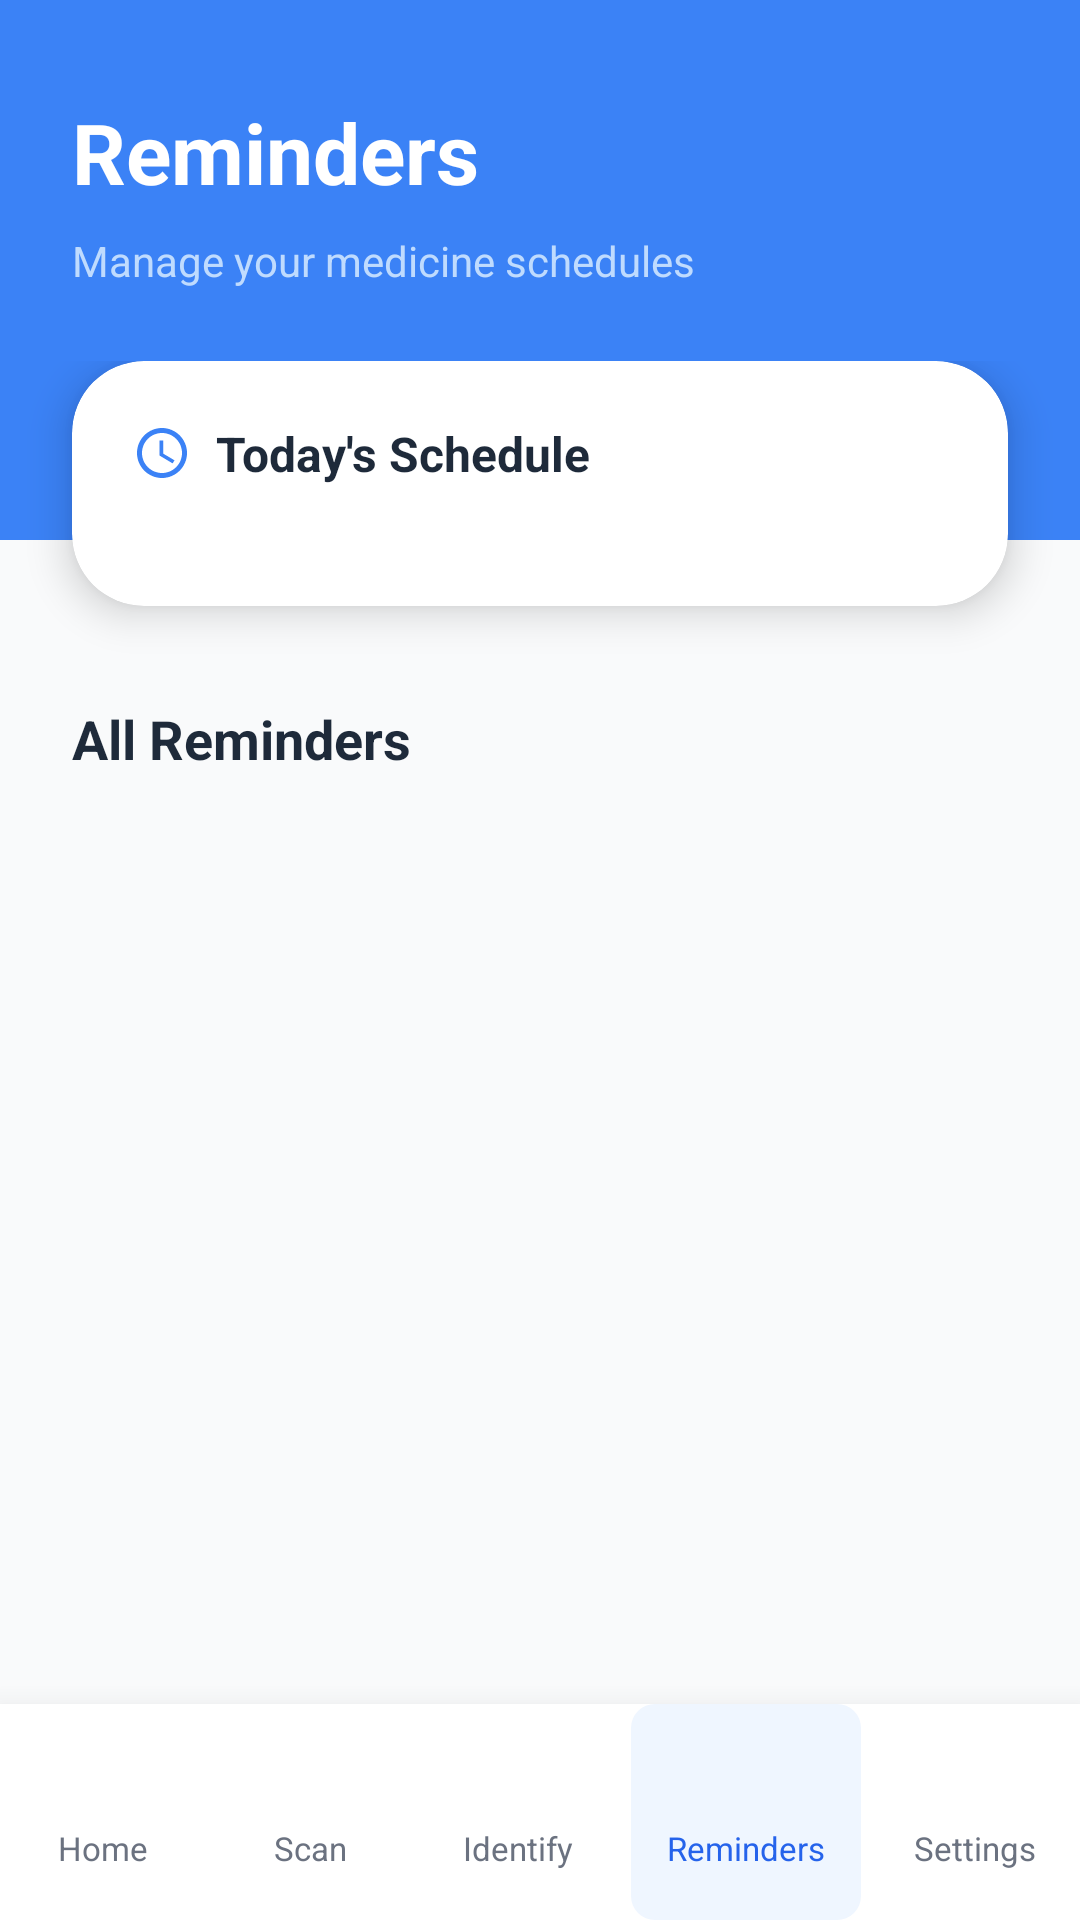

Icon click points for this 1080w x 1920h phone screenshot, format [x,y]:
clock: [162,453]
